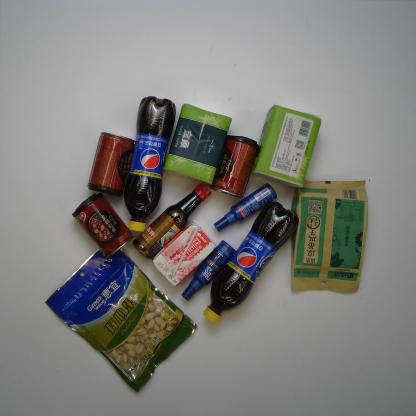Canned Food: (71, 192, 135, 259), (209, 134, 259, 200), (86, 131, 136, 197)
Dried Food: (289, 178, 368, 294)
Dried Fruit: (45, 244, 198, 393)
Drink: (202, 200, 300, 324), (122, 95, 176, 233)
Milk: (152, 222, 218, 287)
Personal Hygiene: (180, 239, 236, 301), (212, 182, 278, 233)
Seasoner: (131, 181, 213, 260)
Tissue: (249, 103, 322, 188), (162, 103, 232, 186)
